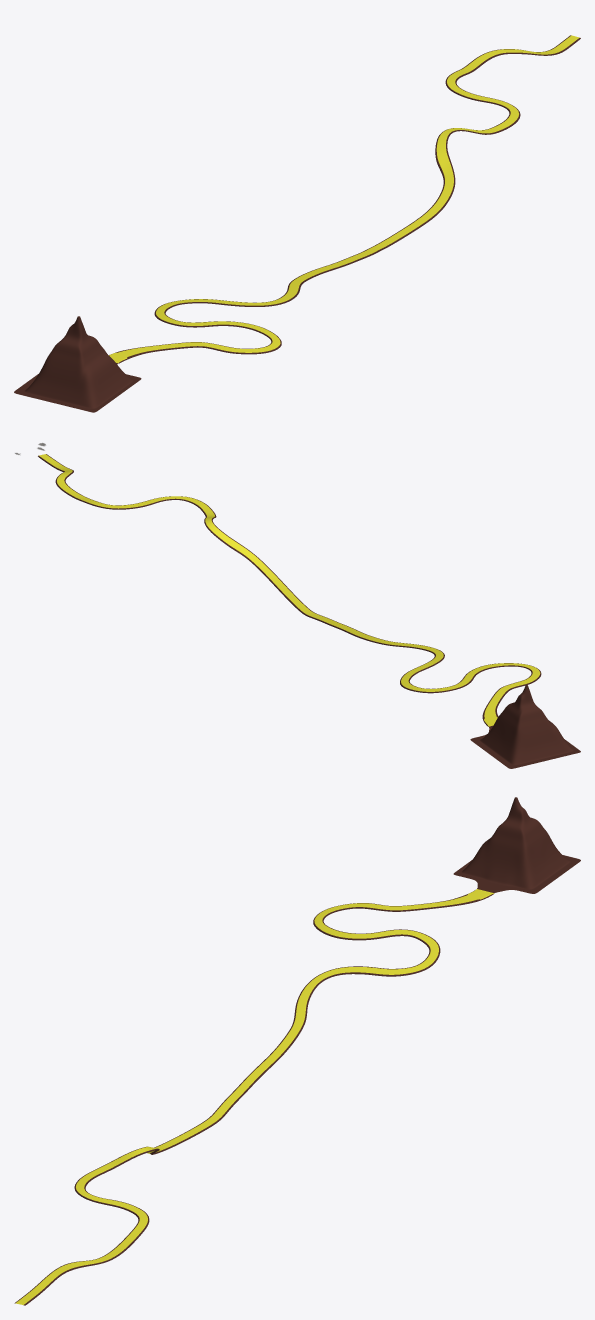
File: the_way_test_camera.glb
3 views of the same model, one above another, from view 1: azimuth 90°, elevation 25°; view 2: azimuth 150°, elevation 25°; view 3: azimuth 270°, elevation 25° (orthographic). The views are drawn at different scales.
Parts seen in each view (by area): view 1: Plane.002; view 2: Plane.002; view 3: Plane.002.
Part boxes in pixels (x1,y1,x2,y2): Plane.002: (14, 35, 580, 412); Plane.002: (38, 454, 580, 768); Plane.002: (14, 797, 580, 1305).
Size of the model in its own units: 256 by 35.55 by 144.
6 materials, 4 textured.
